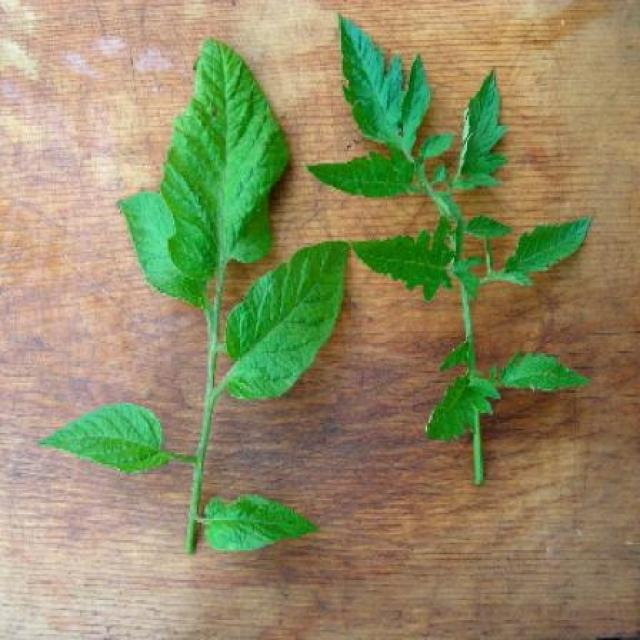Healthy: (161, 36, 288, 281), (225, 237, 351, 404), (337, 10, 432, 153), (42, 398, 168, 476), (197, 486, 319, 555), (351, 220, 456, 300), (446, 65, 509, 194), (504, 214, 593, 287), (305, 150, 425, 204), (424, 368, 501, 446), (498, 349, 588, 394)
